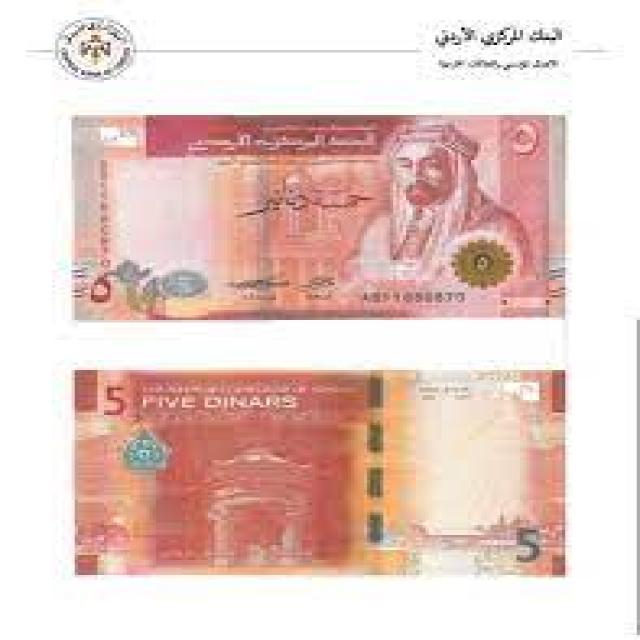5-dinar: (65, 109, 575, 325), (67, 368, 569, 582)
